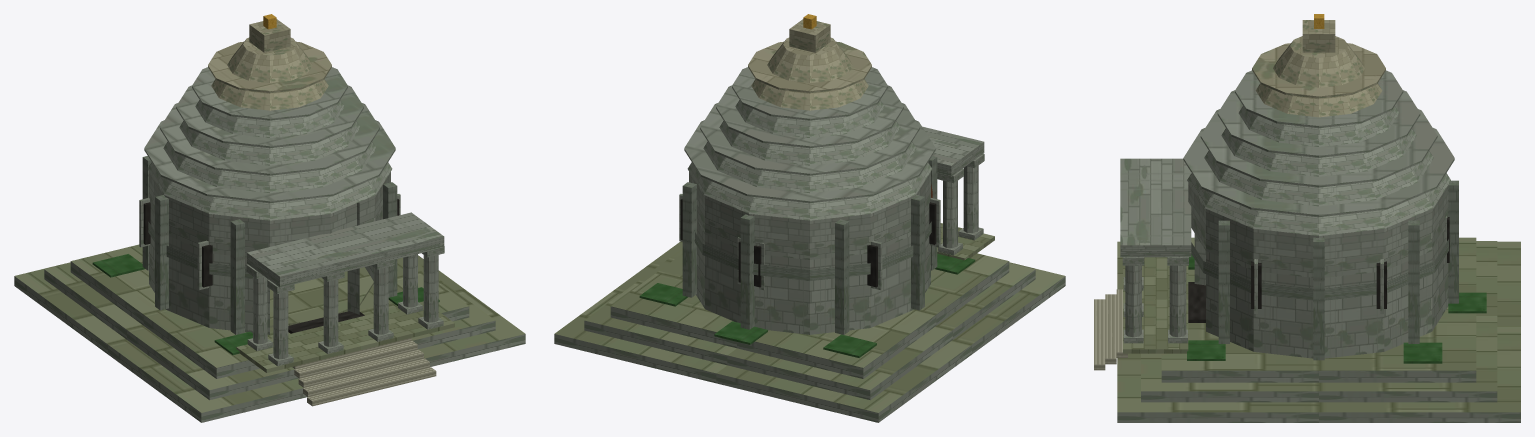
File: ae_jungle_dome_temple_lod1.glb
The picture shows the model from 3 angles, left to right: view 1: azimuth 30°, elevation 25°; view 2: azimuth 150°, elevation 25°; view 3: azimuth 270°, elevation 25°; orthographic projection. The views are drawn at different scales.
Parts seen in each view (by area): view 1: ae_jungle_dome_temple_lod1; view 2: ae_jungle_dome_temple_lod1; view 3: ae_jungle_dome_temple_lod1.
Boxes of the visible parts, bbox=[...] form: ae_jungle_dome_temple_lod1: bbox=[14, 14, 525, 422]; ae_jungle_dome_temple_lod1: bbox=[554, 14, 1065, 422]; ae_jungle_dome_temple_lod1: bbox=[1094, 14, 1520, 422].
Bounding box in the file's own units: 10.99 × 9.66 × 11.62.
1 material, 1 textured.
